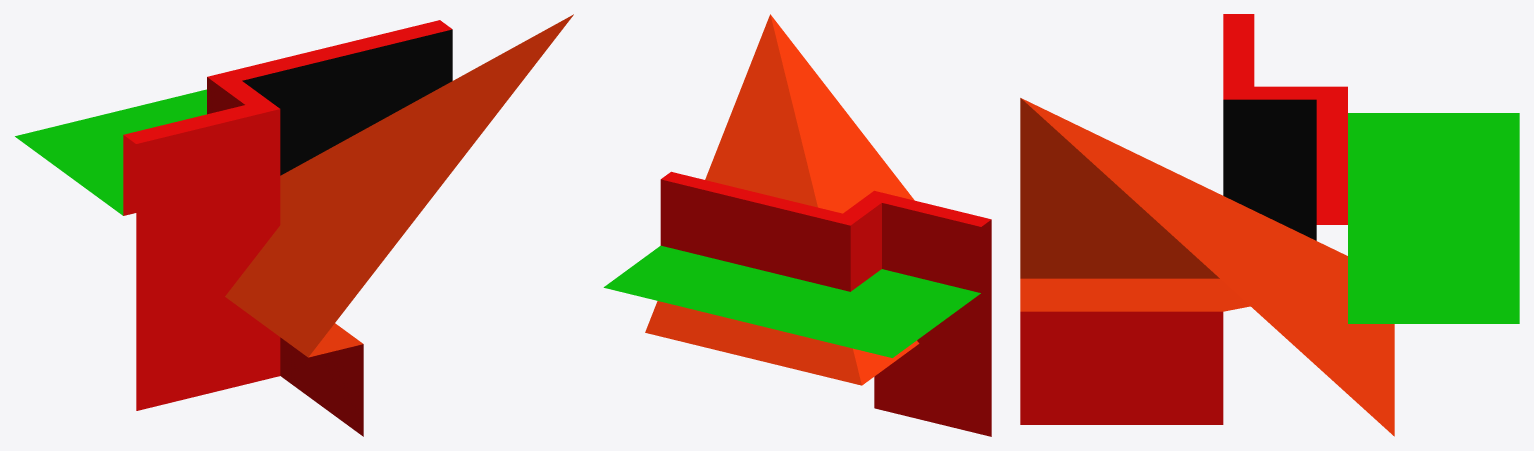
The picture shows the model from 3 angles, left to right: view 1: azimuth 30°, elevation 25°; view 2: azimuth 150°, elevation 25°; view 3: azimuth 270°, elevation 25°; orthographic projection. The views are drawn at different scales.
Visible parts, largest first — view 1: None_W_S_E_E_W_E_E_E_None; view 2: None_W_S_E_E_W_E_E_E_None; view 3: None_W_S_E_E_W_E_E_E_None.
Part boxes in pixels (left/top/right/bottom): None_W_S_E_E_W_E_E_E_None: left=15, top=14, right=573, bottom=436; None_W_S_E_E_W_E_E_E_None: left=603, top=14, right=991, bottom=436; None_W_S_E_E_W_E_E_E_None: left=1020, top=14, right=1519, bottom=436.
Bounding box in the file's own units: 100 × 100 × 100.
